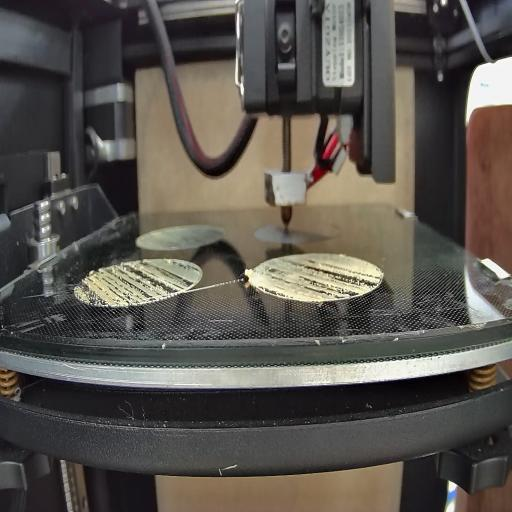under_extrusion: (76, 259, 198, 300), (258, 264, 382, 296)
